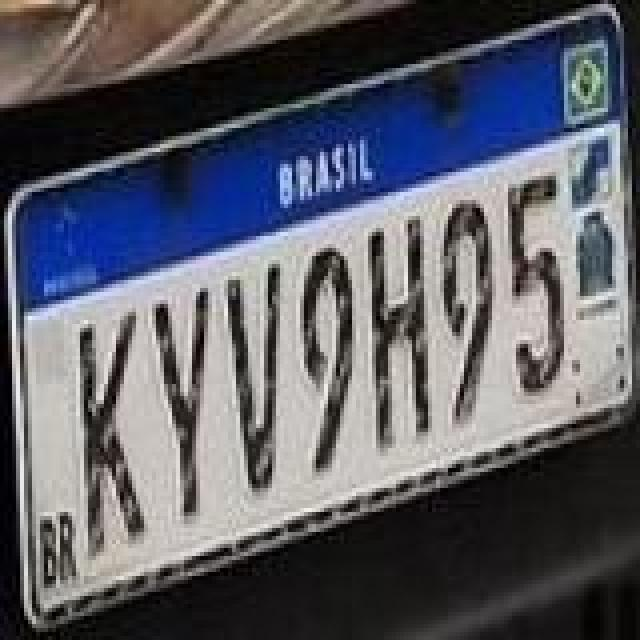5: (504, 174, 568, 402)
9: (298, 244, 358, 476), (436, 196, 492, 428)
H: (366, 210, 434, 454)
K: (74, 314, 150, 566)
V: (224, 258, 288, 494)
Y: (152, 286, 216, 530)
